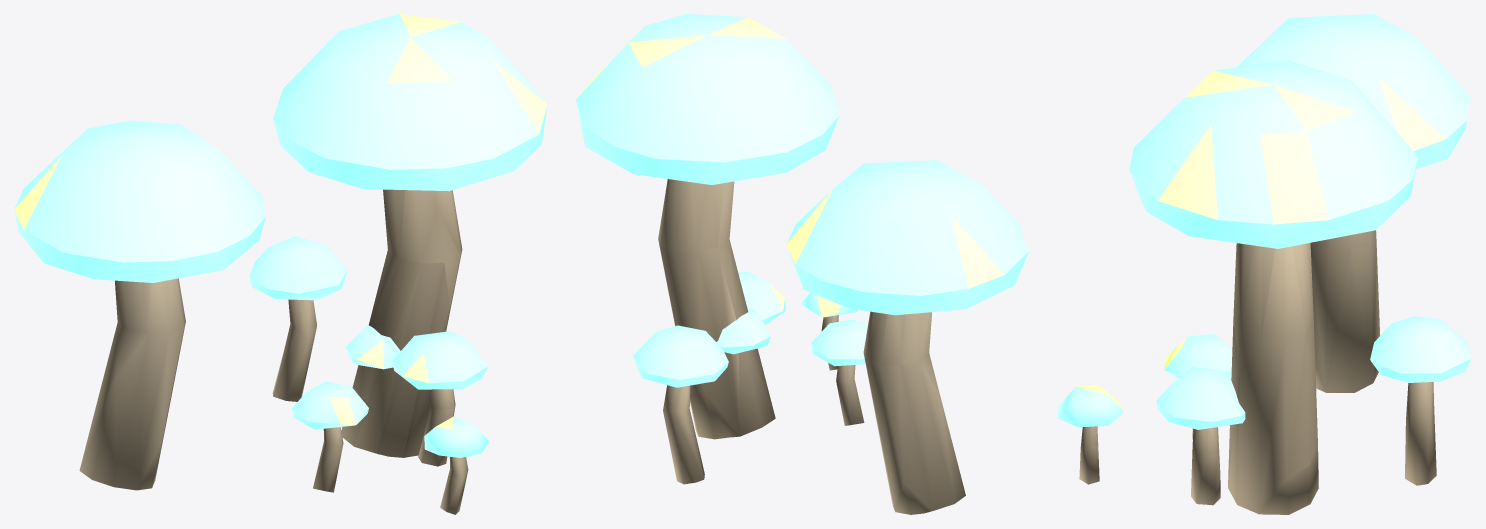
Rendered from mire_glowcap_lod2.glb.
3 views of the same model, side by side, from view 1: azimuth 30°, elevation 25°; view 2: azimuth 150°, elevation 25°; view 3: azimuth 270°, elevation 25° (orthographic). The views are drawn at different scales.
Visible parts, largest first — view 1: mire_glowcap.001; view 2: mire_glowcap.001; view 3: mire_glowcap.001.
Boxes of the visible parts, left/top/right/bottom form: mire_glowcap.001: left=14, top=14, right=547, bottom=514; mire_glowcap.001: left=576, top=14, right=1028, bottom=514; mire_glowcap.001: left=1057, top=14, right=1471, bottom=514.
Bounding box in the file's own units: 4.59 × 3.82 × 3.35.
